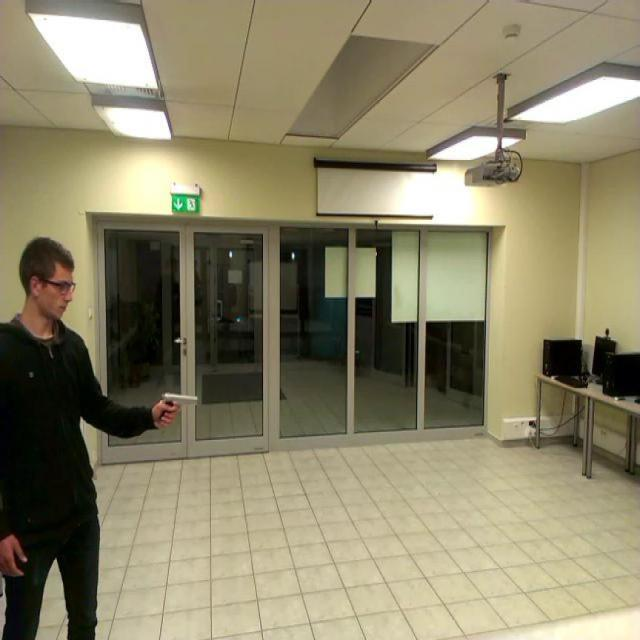pistol: (160, 390, 200, 420)
